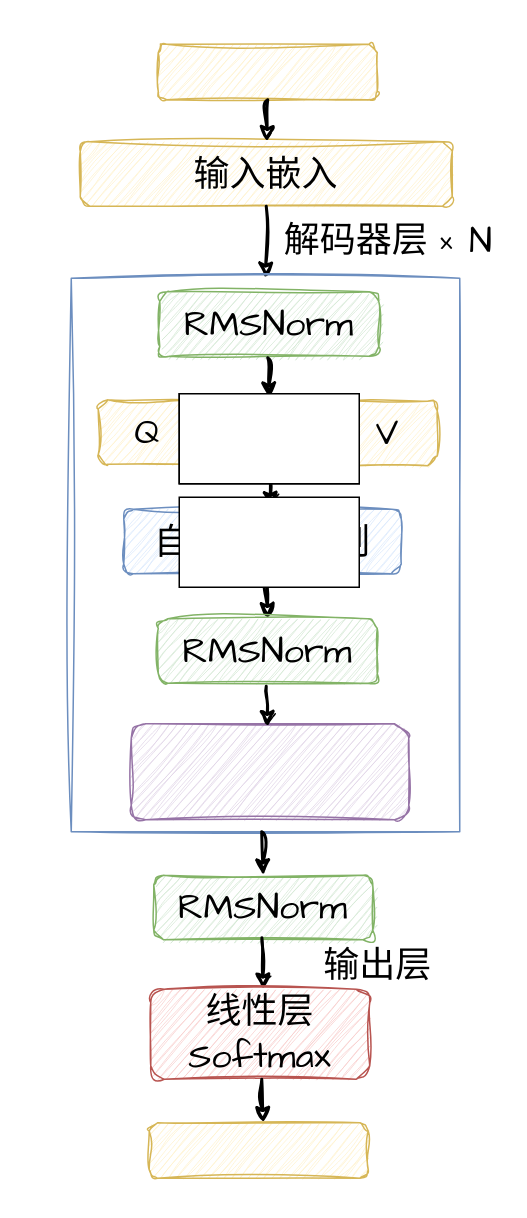
This 527x1218 diagram has some shape labels left out. The shapes that lost their labels are listed below. From the top down, each one's centre as x and y in pixels, then its label:
At (x=267, y=71): "输入".
At (x=269, y=771): "前馈神经网络 SwiGLU".
At (x=258, y=1149): "输出".
